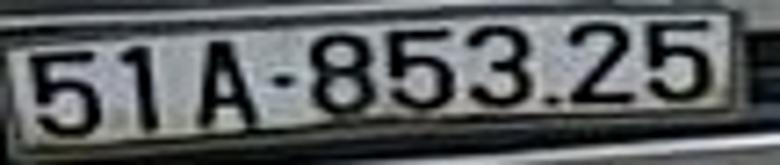-: (271, 75, 295, 88)
.: (544, 94, 558, 105)
1: (122, 47, 160, 131)
2: (570, 24, 634, 104)
3: (467, 24, 533, 108)
5: (32, 55, 101, 140), (646, 20, 713, 102), (387, 29, 453, 108)
8: (312, 34, 373, 117)
A: (195, 39, 259, 125)
